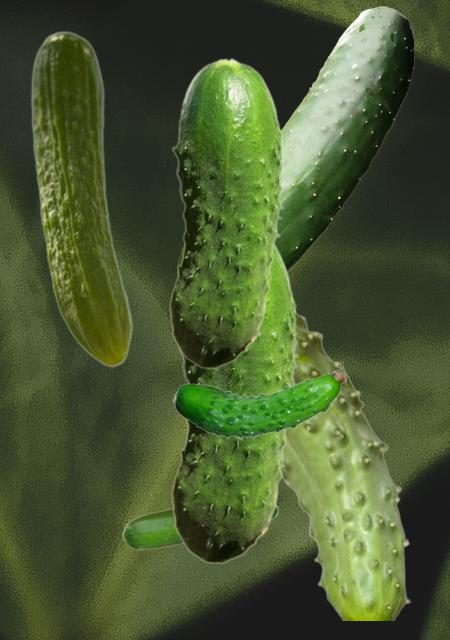cucumber: (177, 6, 413, 270), (171, 242, 298, 563), (282, 313, 410, 619), (169, 57, 284, 368), (30, 30, 132, 367), (172, 361, 345, 438), (122, 506, 277, 549)
